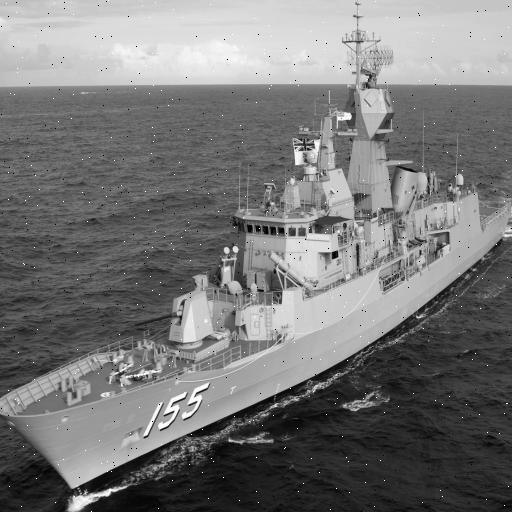Fragata: (1, 1, 512, 512)
